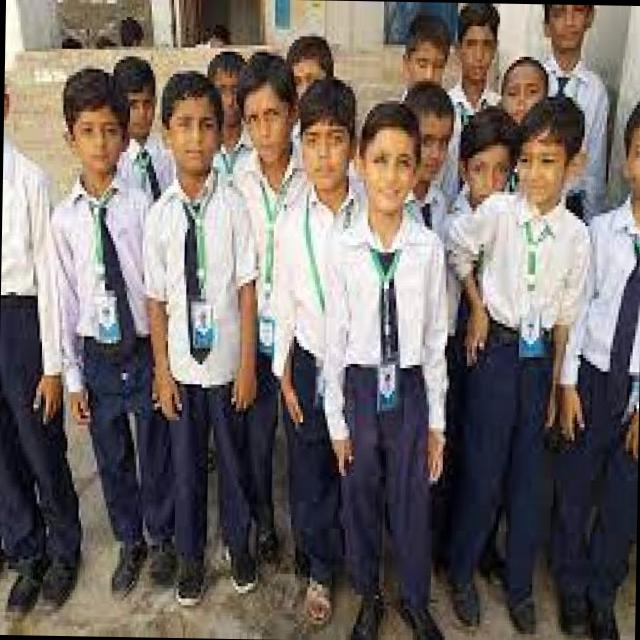id_card: (358, 250, 420, 410), (79, 203, 130, 352), (300, 212, 356, 345), (245, 180, 292, 338), (184, 204, 230, 354), (518, 220, 550, 353)
